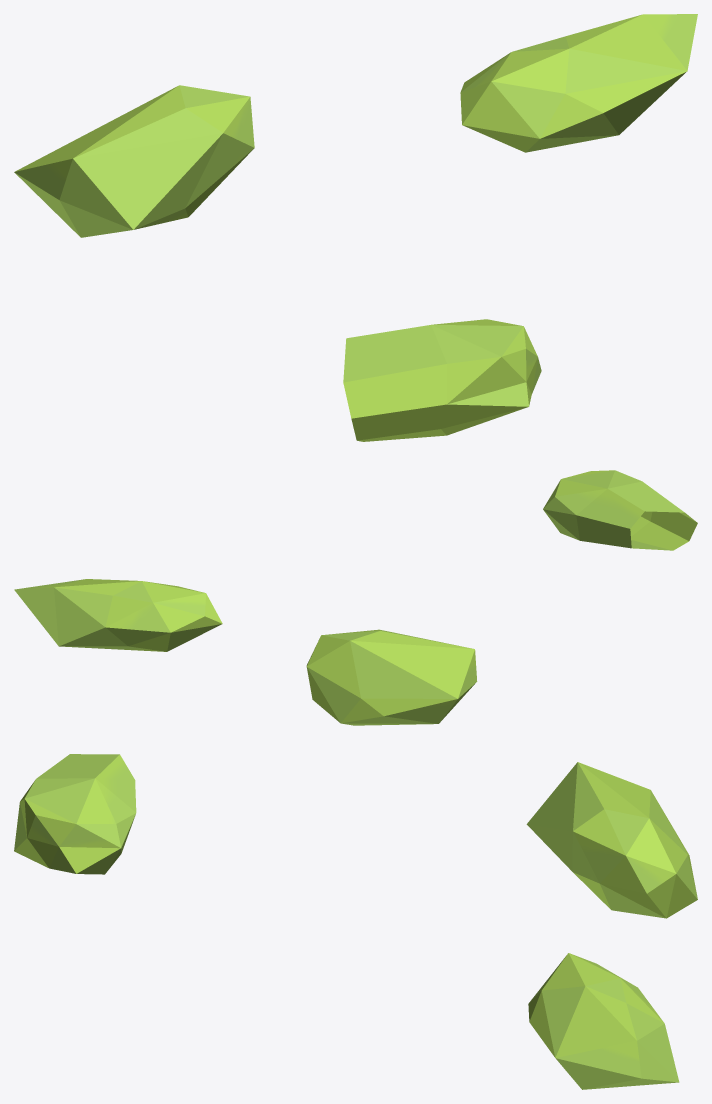
The model's file is Ground_Attach_Obj.FBX.
3 renders of one model, top to bottom at view 1: azimuth 30°, elevation 25°; view 2: azimuth 150°, elevation 25°; view 3: azimuth 270°, elevation 25°, orthographic. The views are drawn at different scales.
Parts seen in each view (by area): view 1: Ground_Attach_Obj_02, Ground_Attach_Obj_01, Ground_Attach_Obj_03; view 2: Ground_Attach_Obj_02, Ground_Attach_Obj_01, Ground_Attach_Obj_03; view 3: Ground_Attach_Obj_02, Ground_Attach_Obj_01, Ground_Attach_Obj_03.
Boxes of the visible parts, <box> form: Ground_Attach_Obj_02: <box>14,85,254,237</box>; Ground_Attach_Obj_01: <box>460,14,697,152</box>; Ground_Attach_Obj_03: <box>343,319,541,441</box>; Ground_Attach_Obj_02: <box>306,629,477,725</box>; Ground_Attach_Obj_01: <box>14,579,222,651</box>; Ground_Attach_Obj_03: <box>543,470,697,550</box>; Ground_Attach_Obj_02: <box>526,762,697,918</box>; Ground_Attach_Obj_01: <box>528,953,679,1089</box>; Ground_Attach_Obj_03: <box>14,754,136,874</box>.
Bounding box in the file's own units: 143 × 26.1 × 142.
